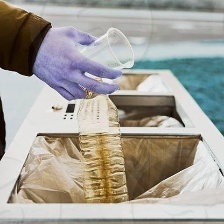bottle: (70, 70, 135, 205)
glass: (63, 26, 137, 78)
